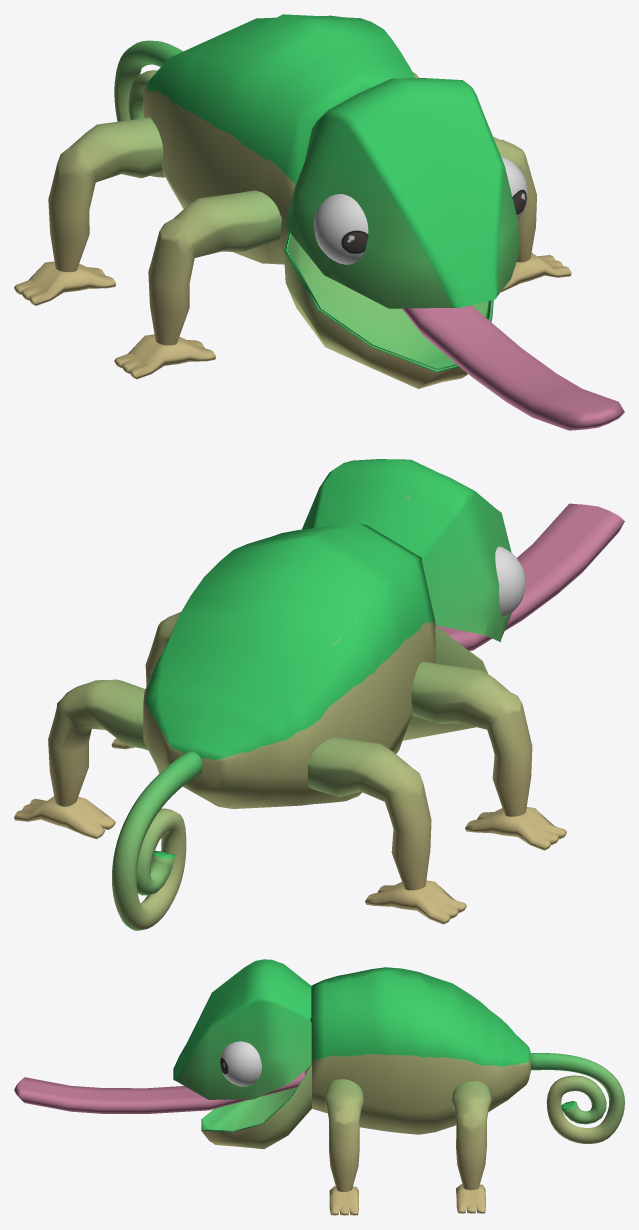
The model's file is chameleon2.fbx.
3 renders of one model, top to bottom at view 1: azimuth 30°, elevation 25°; view 2: azimuth 150°, elevation 25°; view 3: azimuth 270°, elevation 25°, orthographic. The views are drawn at different scales.
Parts seen in each view (by area): view 1: face; view 2: face; view 3: face.
Part boxes in pixels (left/top/right/bottom): face: left=14, top=14, right=624, bottom=430; face: left=14, top=459, right=624, bottom=930; face: left=14, top=959, right=624, bottom=1215.
Bounding box in the file's own units: 225 × 141 × 430.
